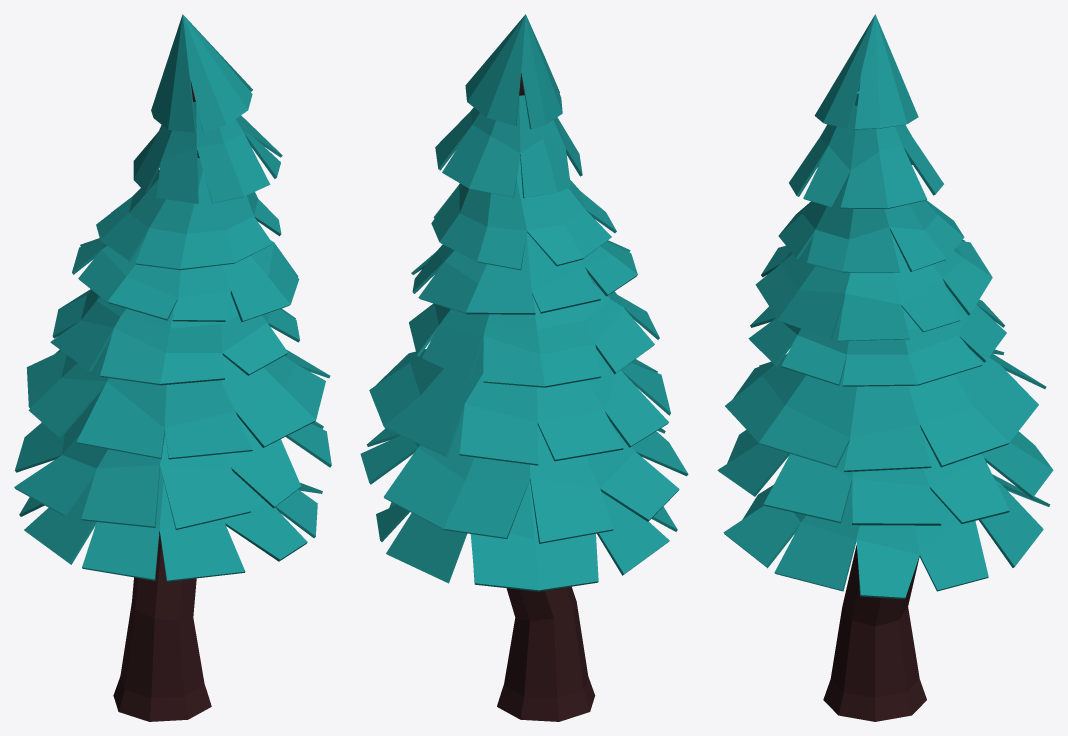
The model's file is pine_tree.obj.
3 renders of one model, left to right at view 1: azimuth 30°, elevation 25°; view 2: azimuth 150°, elevation 25°; view 3: azimuth 270°, elevation 25°, orthographic. The views are drawn at different scales.
Visible parts, largest first — view 1: pine_leaves_Circle, trunk.002_Cylinder; view 2: pine_leaves_Circle, trunk.002_Cylinder; view 3: pine_leaves_Circle, trunk.002_Cylinder.
Boxes of the visible parts, x1,y1,x2,y2 form: pine_leaves_Circle: (14, 14, 331, 581); trunk.002_Cylinder: (113, 81, 211, 721); pine_leaves_Circle: (360, 14, 688, 591); trunk.002_Cylinder: (497, 73, 595, 721); pine_leaves_Circle: (717, 14, 1053, 599); trunk.002_Cylinder: (823, 545, 926, 721).
Bounding box in the file's own units: 4.29 × 10.01 × 4.38.
